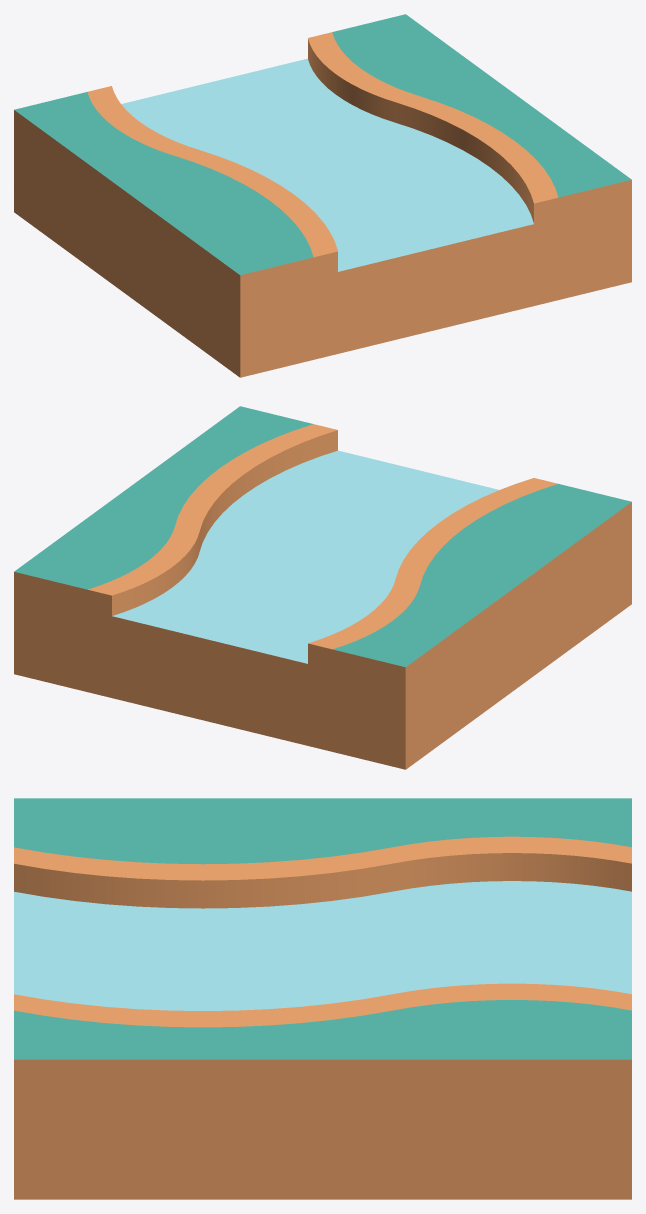
The model's file is ground_dirtRiver.fbx.
3 renders of one model, top to bottom at view 1: azimuth 30°, elevation 25°; view 2: azimuth 150°, elevation 25°; view 3: azimuth 270°, elevation 25°, orthographic. The views are drawn at different scales.
Parts seen in each view (by area): view 1: ground_dirtRiver; view 2: ground_dirtRiver; view 3: ground_dirtRiver.
Part boxes in pixels (x1,y1,x2,y2): ground_dirtRiver: [14, 14, 631, 377]; ground_dirtRiver: [14, 406, 631, 769]; ground_dirtRiver: [14, 798, 631, 1199].
Size of the model in its own units: 10 by 2.5 by 10.
